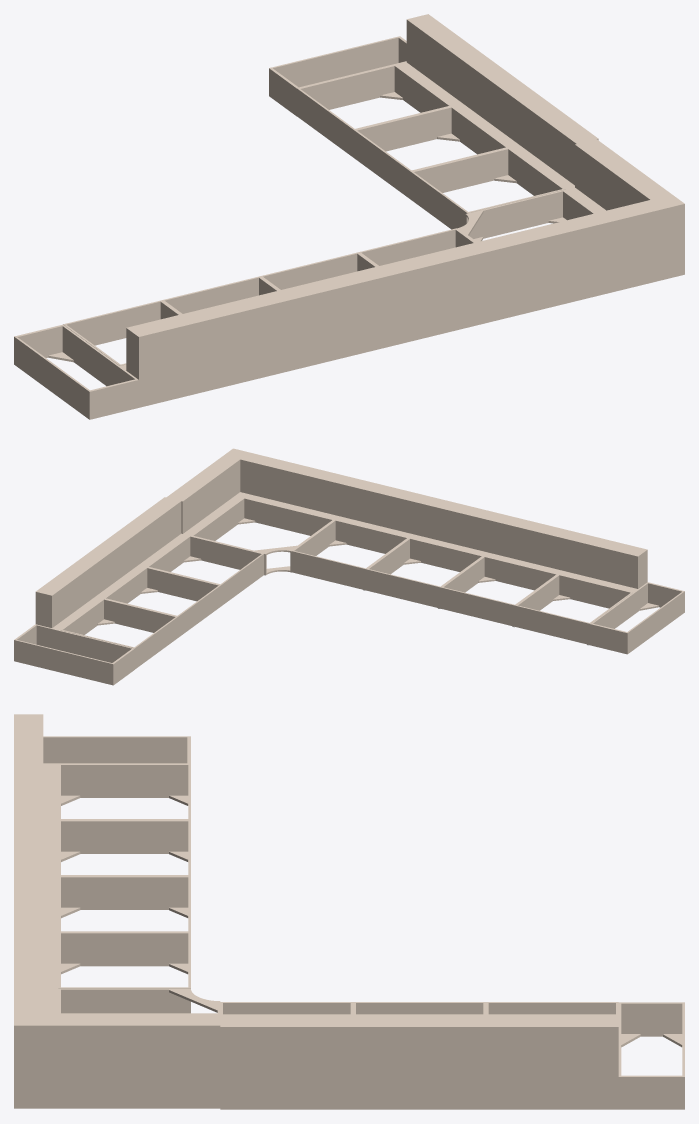
The model's file is canapea Metin.obj.
3 views of the same model, one above another, from view 1: azimuth 30°, elevation 25°; view 2: azimuth 150°, elevation 25°; view 3: azimuth 270°, elevation 25° (orthographic). The views are drawn at different scales.
Visible parts, largest first — view 1: Mesh20 Group8 Component_18_1 Component_19_1 Model, Mesh94 Group31 Component_14_4 Component_20_4 Model, Mesh40 Group16 Component_14_1 Component_20_1 Model, Mesh58 Group21 Component_14_2 Component_20_2 Model, Mesh76 Group26 Component_14_3 Component_20_3 Model, Mesh170 Component_3_18 Component_17_2 Model, Mesh35 Component_7_1 Component_16_1 Component_19_1 Model, Mesh118 Component_3_11 Component_15_5 Component_20_5 Model, Mesh154 Component_3_15 Component_15_7 Component_20_7 Model, Mesh136 Component_3_13 Component_15_6 Component_20_6 Model, Mesh146 Group44 Component_14_7 Component_20_7 Model, Mesh110 Group34 Component_14_5 Component_20_5 Model (+26 smaller); view 2: Mesh21 Group9 Component_18_1 Component_19_1 Model, Mesh92 Group29 Component_14_4 Component_20_4 Model, Mesh38 Group14 Component_14_1 Component_20_1 Model, Mesh56 Group19 Component_14_2 Component_20_2 Model, Mesh74 Group24 Component_14_3 Component_20_3 Model, Mesh170 Component_3_18 Component_17_2 Model, Mesh4 Group4 Component_13_1 Model, Mesh163 Component_3_17 Component_17_2 Model, Mesh33 Component_4_1 Component_16_1 Component_19_1 Model, Mesh87 Component_2_6 Component_15_3 Component_20_3 Model, Mesh51 Component_2_2 Component_15_1 Component_20_1 Model, Mesh69 Component_2_4 Component_15_2 Component_20_2 Model (+39 smaller); view 3: Mesh2 Group2 Component_13_1 Model, Mesh130 Group41 Component_14_6 Component_20_6 Model, Mesh112 Group36 Component_14_5 Component_20_5 Model, Mesh148 Group46 Component_14_7 Component_20_7 Model, Mesh52 Component_3_4 Component_15_1 Component_20_1 Model, Mesh70 Component_3_6 Component_15_2 Component_20_2 Model, Mesh88 Component_3_8 Component_15_3 Component_20_3 Model, Mesh106 Component_3_10 Component_15_4 Component_20_4 Model, Mesh10 Component_3_1 Component_17_1 Model, Mesh34 Component_6_1 Component_16_1 Component_19_1 Model, Mesh3 Group3 Component_13_1 Model, Mesh19 Group7 Component_18_1 Component_19_1 Model (+17 smaller).
Boxes of the visible parts, left/top/right/bottom form: Mesh20 Group8 Component_18_1 Component_19_1 Model: left=532, top=206, right=684, bottom=309; Mesh94 Group31 Component_14_4 Component_20_4 Model: left=137, top=315, right=236, bottom=405; Mesh40 Group16 Component_14_1 Component_20_1 Model: left=433, top=243, right=531, bottom=333; Mesh58 Group21 Component_14_2 Component_20_2 Model: left=335, top=267, right=433, bottom=357; Mesh76 Group26 Component_14_3 Component_20_3 Model: left=237, top=291, right=335, bottom=381; Mesh170 Component_3_18 Component_17_2 Model: left=269, top=36, right=400, bottom=94; Mesh35 Component_7_1 Component_16_1 Component_19_1 Model: left=465, top=190, right=564, bottom=238; Mesh118 Component_3_11 Component_15_5 Component_20_5 Model: left=354, top=106, right=452, bottom=156; Mesh154 Component_3_15 Component_15_7 Component_20_7 Model: left=297, top=64, right=396, bottom=114; Mesh136 Component_3_13 Component_15_6 Component_20_6 Model: left=411, top=148, right=509, bottom=198; Mesh146 Group44 Component_14_7 Component_20_7 Model: left=406, top=22, right=463, bottom=103; Mesh110 Group34 Component_14_5 Component_20_5 Model: left=463, top=63, right=519, bottom=144; Mesh21 Group9 Component_18_1 Component_19_1 Model: left=240, top=461, right=339, bottom=516; Mesh92 Group29 Component_14_4 Component_20_4 Model: left=563, top=540, right=638, bottom=588; Mesh38 Group14 Component_14_1 Component_20_1 Model: left=339, top=485, right=414, bottom=534; Mesh56 Group19 Component_14_2 Component_20_2 Model: left=414, top=503, right=488, bottom=552; Mesh74 Group24 Component_14_3 Component_20_3 Model: left=489, top=522, right=563, bottom=570; Mesh170 Component_3_18 Component_17_2 Model: left=14, top=639, right=114, bottom=683; Mesh4 Group4 Component_13_1 Model: left=181, top=461, right=240, bottom=533; Mesh163 Component_3_17 Component_17_2 Model: left=35, top=624, right=134, bottom=668; Mesh33 Component_4_1 Component_16_1 Component_19_1 Model: left=243, top=497, right=334, bottom=535; Mesh87 Component_2_6 Component_15_3 Component_20_3 Model: left=442, top=587, right=514, bottom=624; Mesh51 Component_2_2 Component_15_1 Component_20_1 Model: left=293, top=551, right=365, bottom=588; Mesh69 Component_2_4 Component_15_2 Component_20_2 Model: left=368, top=569, right=439, bottom=606; Mesh2 Group2 Component_13_1 Model: left=43, top=1028, right=220, bottom=1108; Mesh130 Group41 Component_14_6 Component_20_6 Model: left=220, top=1029, right=353, bottom=1109; Mesh112 Group36 Component_14_5 Component_20_5 Model: left=353, top=1029, right=485, bottom=1109; Mesh148 Group46 Component_14_7 Component_20_7 Model: left=486, top=1029, right=618, bottom=1109; Mesh52 Component_3_4 Component_15_1 Component_20_1 Model: left=58, top=932, right=190, bottom=966; Mesh70 Component_3_6 Component_15_2 Component_20_2 Model: left=58, top=876, right=190, bottom=909; Mesh88 Component_3_8 Component_15_3 Component_20_3 Model: left=58, top=820, right=190, bottom=853; Mesh106 Component_3_10 Component_15_4 Component_20_4 Model: left=58, top=764, right=190, bottom=797; Mesh10 Component_3_1 Component_17_1 Model: left=43, top=736, right=190, bottom=763; Mesh34 Component_6_1 Component_16_1 Component_19_1 Model: left=61, top=988, right=190, bottom=1013; Mesh3 Group3 Component_13_1 Model: left=43, top=1013, right=220, bottom=1028; Mesh19 Group7 Component_18_1 Component_19_1 Model: left=14, top=938, right=43, bottom=1028.
Size of the model in its own units: 5468 by 643 by 4550.
